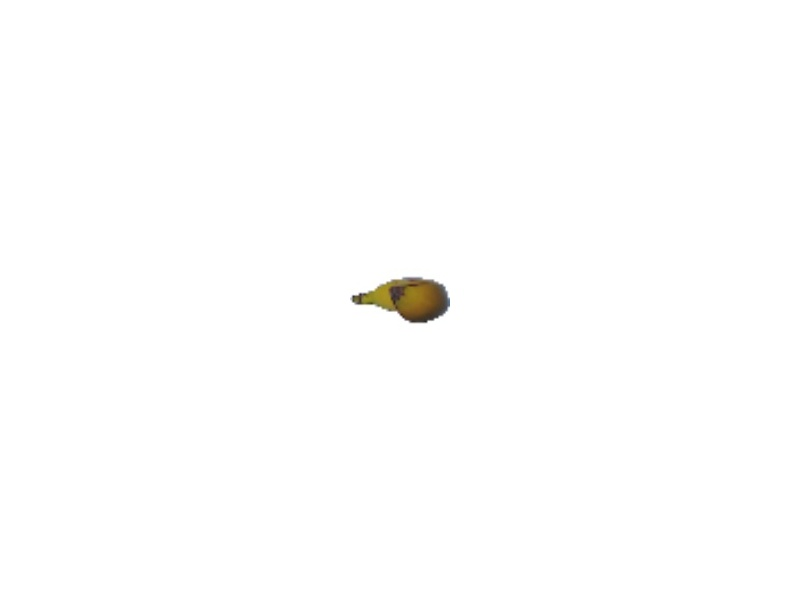banana: (351, 274, 456, 325)
